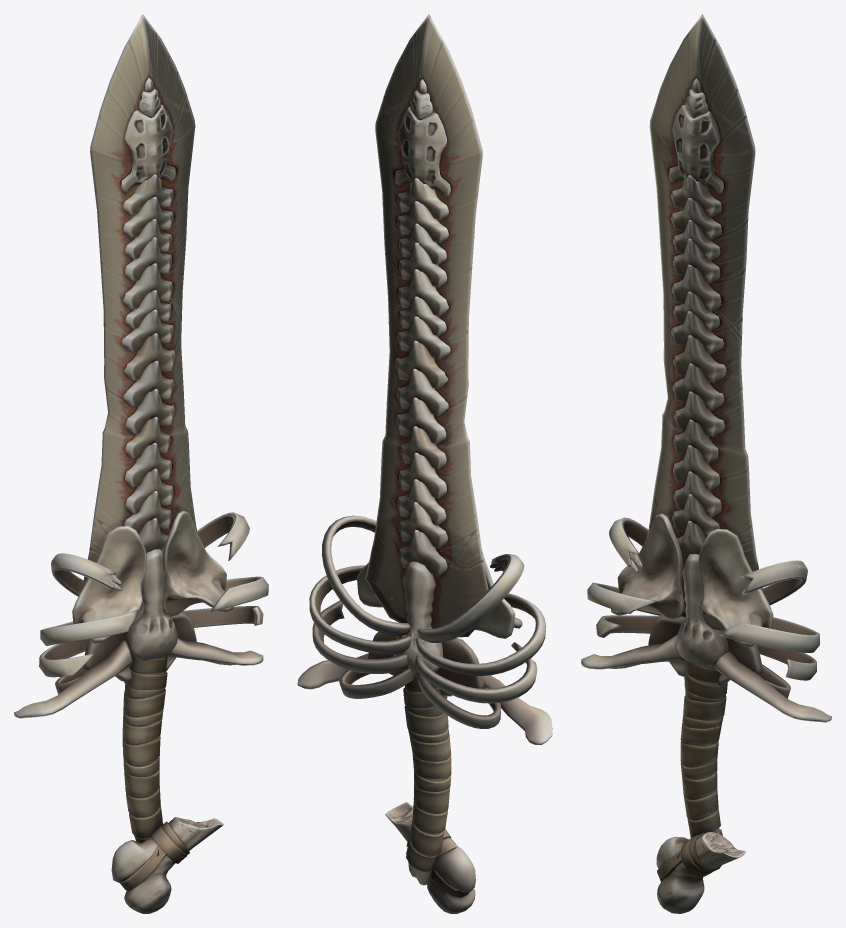
Rendered from SM_Sword_181.gltf.
The picture shows the model from 3 angles, left to right: view 1: azimuth 30°, elevation 25°; view 2: azimuth 150°, elevation 25°; view 3: azimuth 330°, elevation 25°; orthographic projection. The views are drawn at different scales.
Visible parts, largest first — view 1: SM_Sword_181; view 2: SM_Sword_181; view 3: SM_Sword_181.
Boxes of the visible parts, left/top/right/bottom form: SM_Sword_181: left=14, top=14, right=268, bottom=913; SM_Sword_181: left=297, top=14, right=552, bottom=913; SM_Sword_181: left=581, top=14, right=831, bottom=913.
Bounding box in the file's own units: 0.4274 × 1.48 × 0.1666.
1 material, 1 textured.
